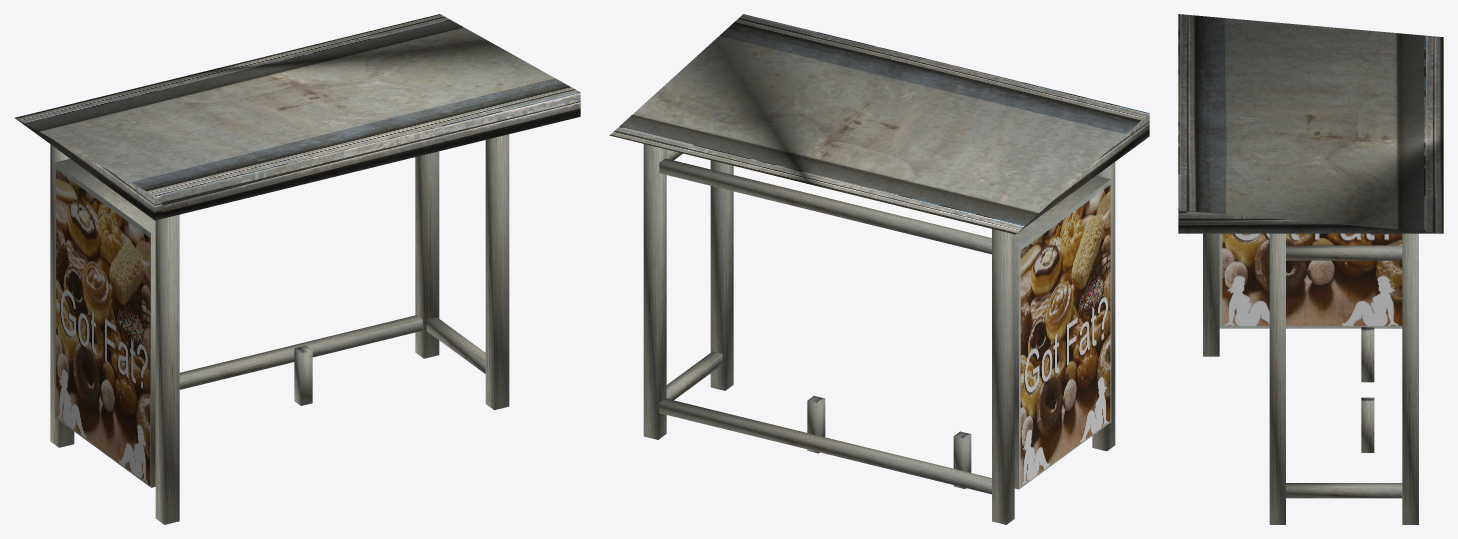
The model's file is busstop_300.fbx.
3 views of the same model, side by side, from view 1: azimuth 30°, elevation 25°; view 2: azimuth 150°, elevation 25°; view 3: azimuth 270°, elevation 25° (orthographic). The views are drawn at different scales.
Visible parts, largest first — view 1: roof0, frame0, poster0, bench0; view 2: roof0, frame0, poster0, bench0; view 3: roof0, frame0, poster0, bench0.
Boxes of the visible parts, left/top/right/bottom form: roof0: left=15, top=14, right=580, bottom=220; frame0: left=50, top=134, right=509, bottom=524; poster0: left=54, top=163, right=150, bottom=487; bench0: left=294, top=345, right=312, bottom=405; roof0: left=609, top=14, right=1149, bottom=234; frame0: left=643, top=144, right=1115, bottom=524; poster0: left=1019, top=179, right=1111, bottom=489; bench0: left=807, top=396, right=971, bottom=488; roof0: left=1178, top=14, right=1443, bottom=233; frame0: left=1203, top=233, right=1418, bottom=524; poster0: left=1219, top=233, right=1402, bottom=328; bench0: left=1361, top=327, right=1374, bottom=452.
Bounding box in the file's own units: 5.29 × 4.08 × 3.02.
